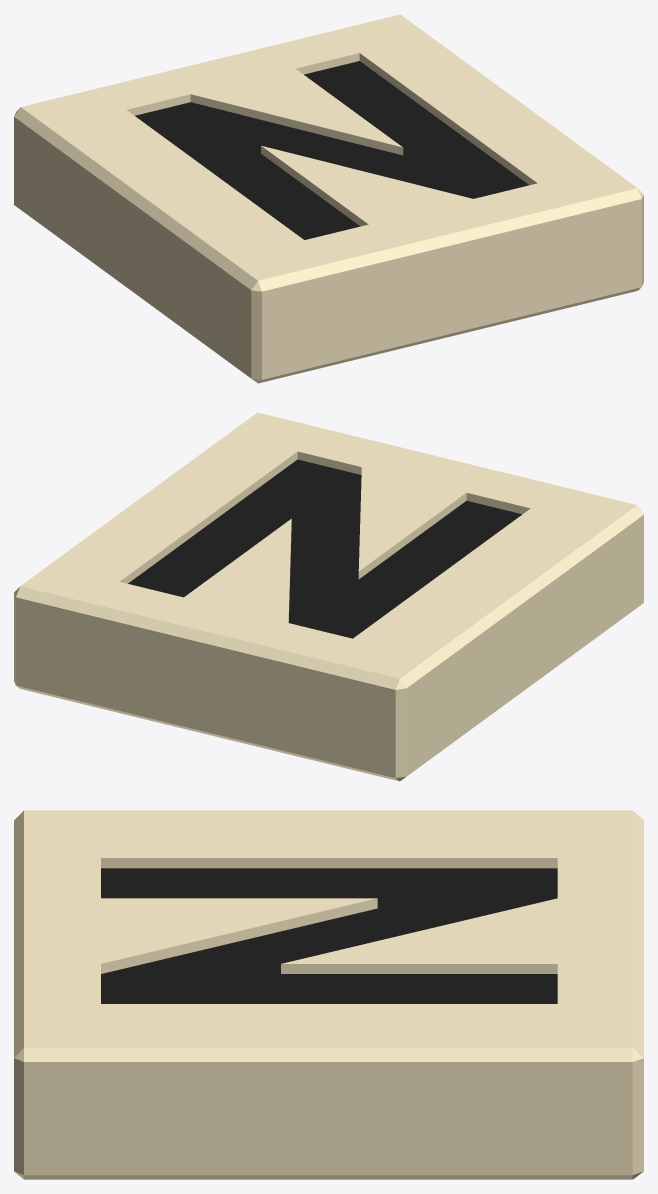
The model's file is Game_Anagram_Tile_N_01.fbx.
The picture shows the model from 3 angles, top to bottom: view 1: azimuth 30°, elevation 25°; view 2: azimuth 150°, elevation 25°; view 3: azimuth 270°, elevation 25°; orthographic projection. The views are drawn at different scales.
Visible parts, largest first — view 1: Model; view 2: Model; view 3: Model.
Part boxes in pixels (left/top/right/bottom): Model: left=14, top=14, right=643, bottom=383; Model: left=14, top=412, right=643, bottom=781; Model: left=14, top=810, right=643, bottom=1179.
Size of the model in its own units: 463 by 116 by 502.
